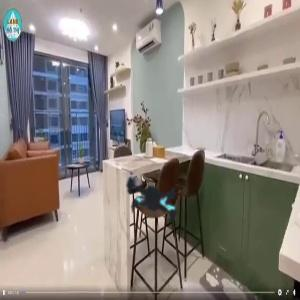drone: (95, 140, 214, 259)
